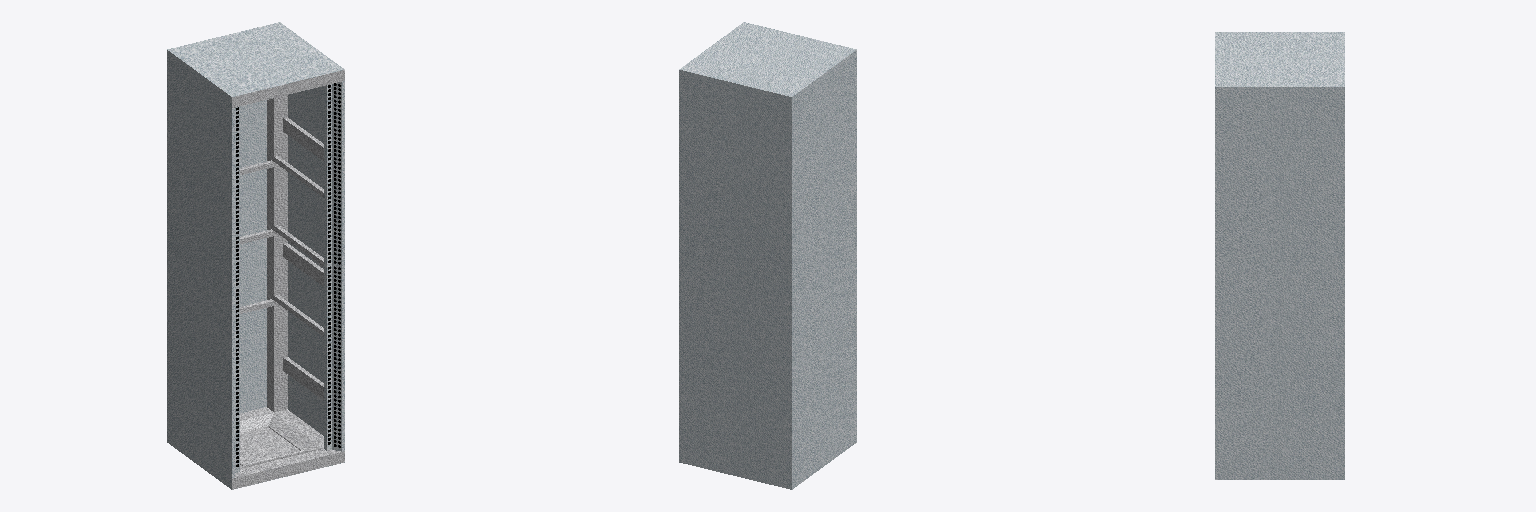
The picture shows the model from 3 angles: view 1: azimuth 30°, elevation 25°; view 2: azimuth 150°, elevation 25°; view 3: azimuth 270°, elevation 25°; orthographic projection.
Parts seen in each view (by area): view 1: Object009; view 2: Object009; view 3: Object009.
Part boxes in pixels (x1,y1,x2,y2): Object009: (167, 22, 344, 489); Object009: (679, 22, 856, 489); Object009: (1215, 32, 1344, 479).
Size of the model in its own units: 23.73 by 78.85 by 23.67.
Materials: 1 (1 with a texture image).